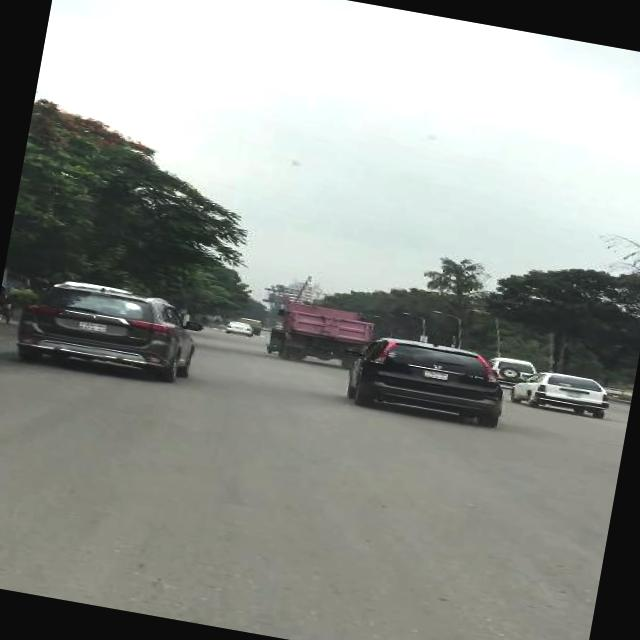car: (12, 272, 211, 392), (340, 327, 509, 431), (507, 363, 616, 422), (488, 352, 540, 384), (224, 318, 256, 338)
motorcycle: (0, 284, 19, 323), (266, 330, 286, 356)
truck: (273, 296, 381, 348)
